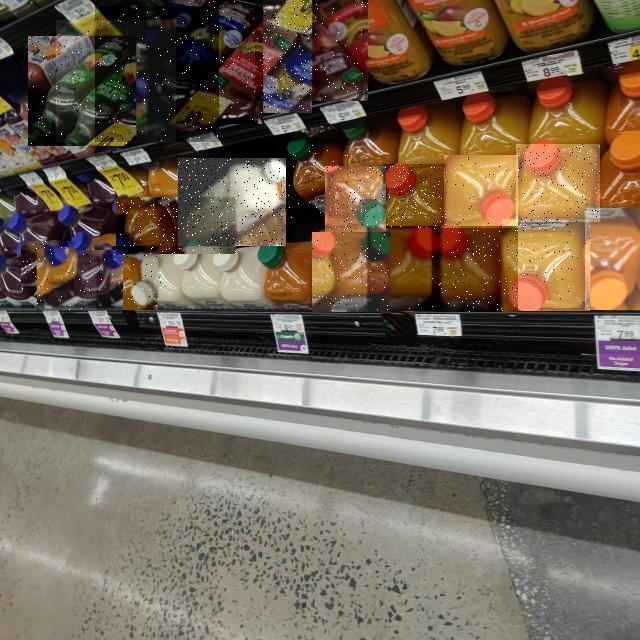Juice: (95, 6, 219, 142), (57, 20, 177, 143), (147, 0, 263, 124), (190, 0, 312, 113), (28, 36, 136, 146), (255, 0, 368, 101), (179, 158, 287, 246), (502, 219, 590, 311), (432, 228, 518, 312), (116, 197, 236, 254), (516, 144, 600, 222), (367, 226, 441, 311), (312, 232, 390, 312), (585, 208, 640, 310), (444, 155, 518, 226), (37, 250, 123, 310), (287, 138, 349, 218), (96, 246, 162, 310), (383, 164, 446, 228), (325, 166, 386, 232), (21, 242, 74, 290)
